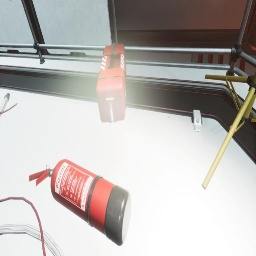FireExtinguisher ]: (29, 159, 132, 246)
FirstAidBox ,: (96, 42, 126, 123)
